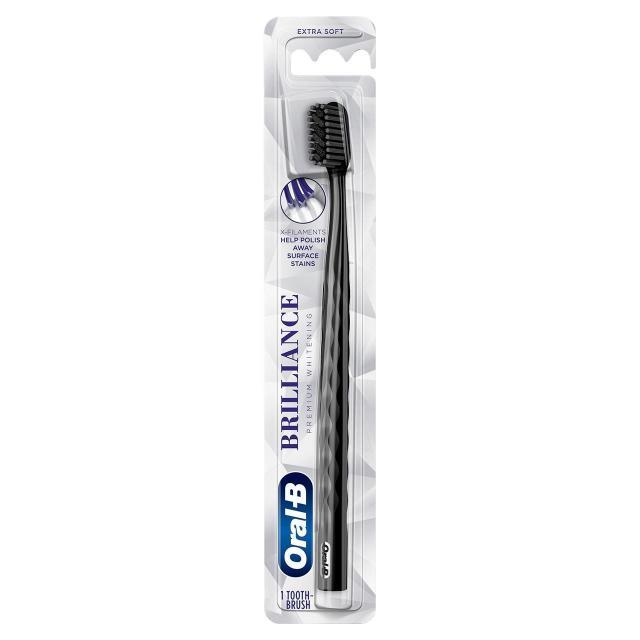toothbrush: (288, 88, 362, 588)
